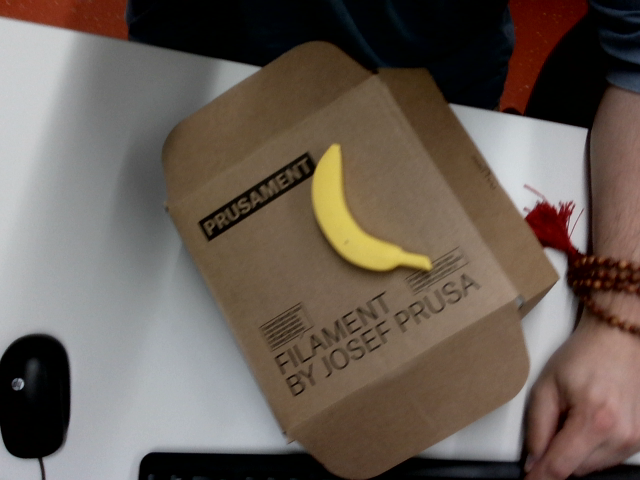banana: (283, 141, 434, 307)
